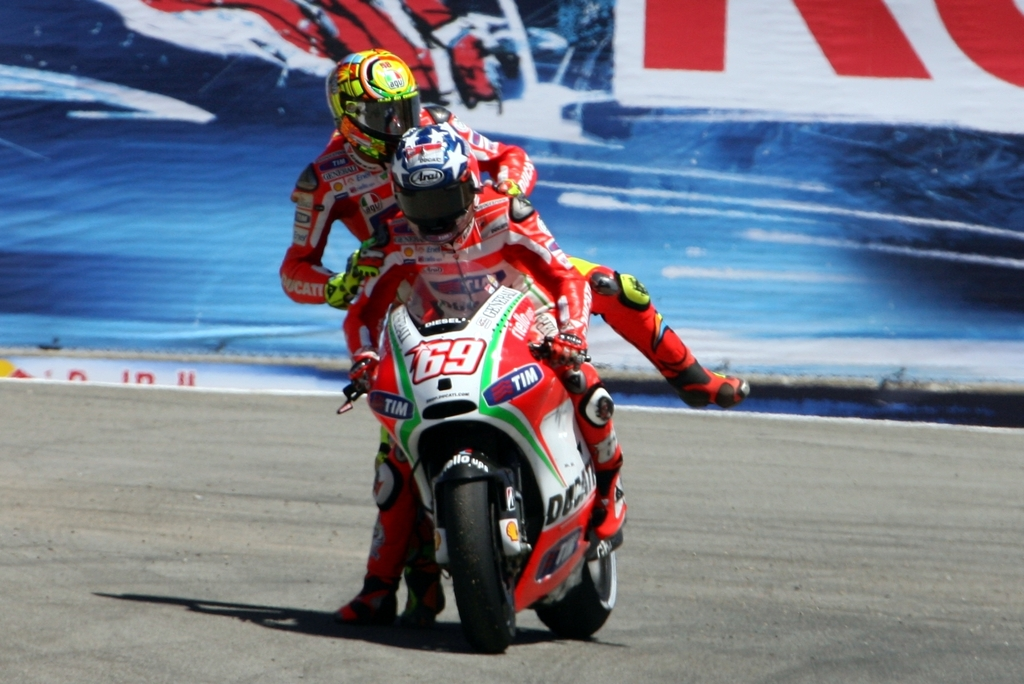Motorcycle: (337, 256, 624, 643)
